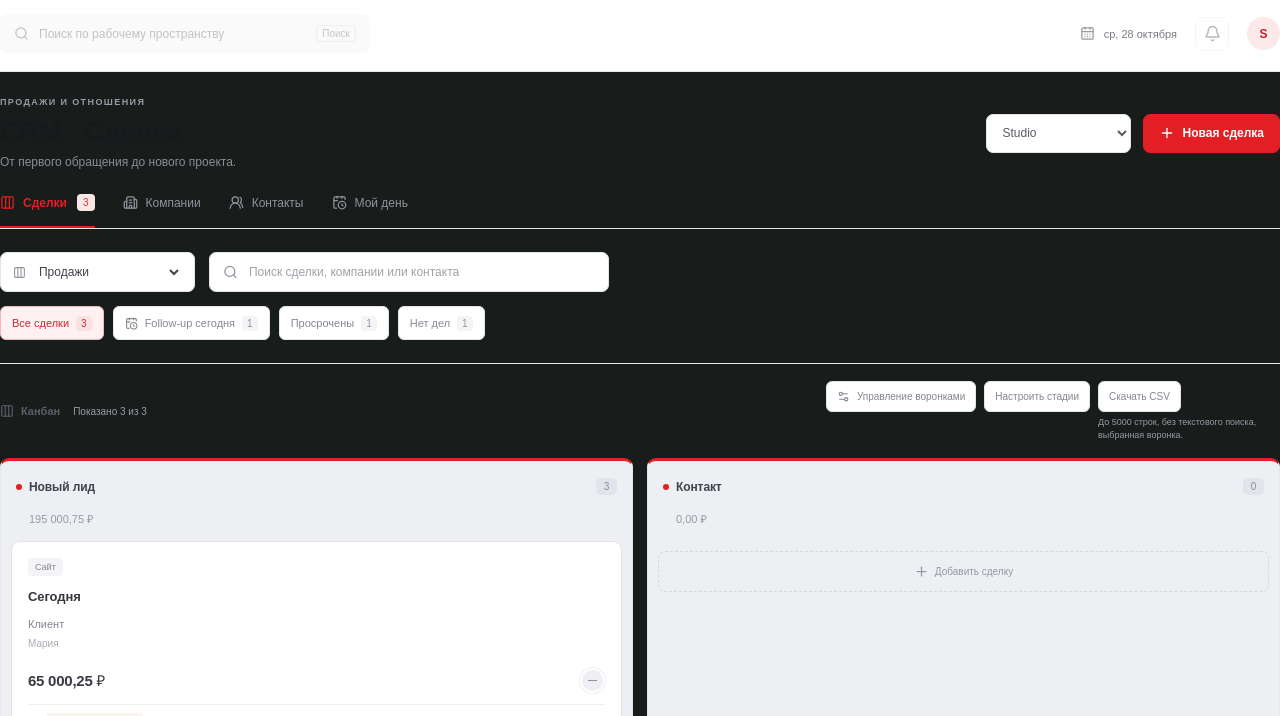
Test case: CRM persistence › filters deals with today, overdue and missing follow-ups
Click the button "Follow-up сегодня 1": (191, 323) [113,306,270,340]
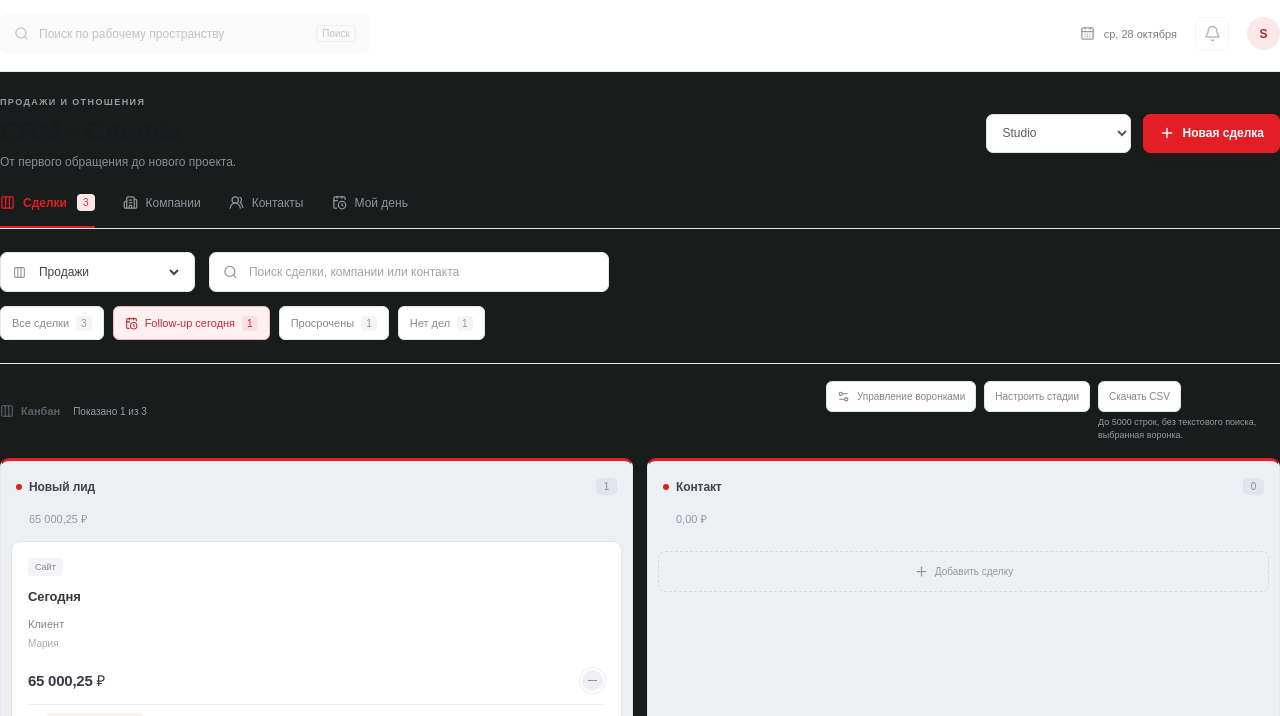
Click the button "Просрочены 1": (334, 323) [279,306,389,340]
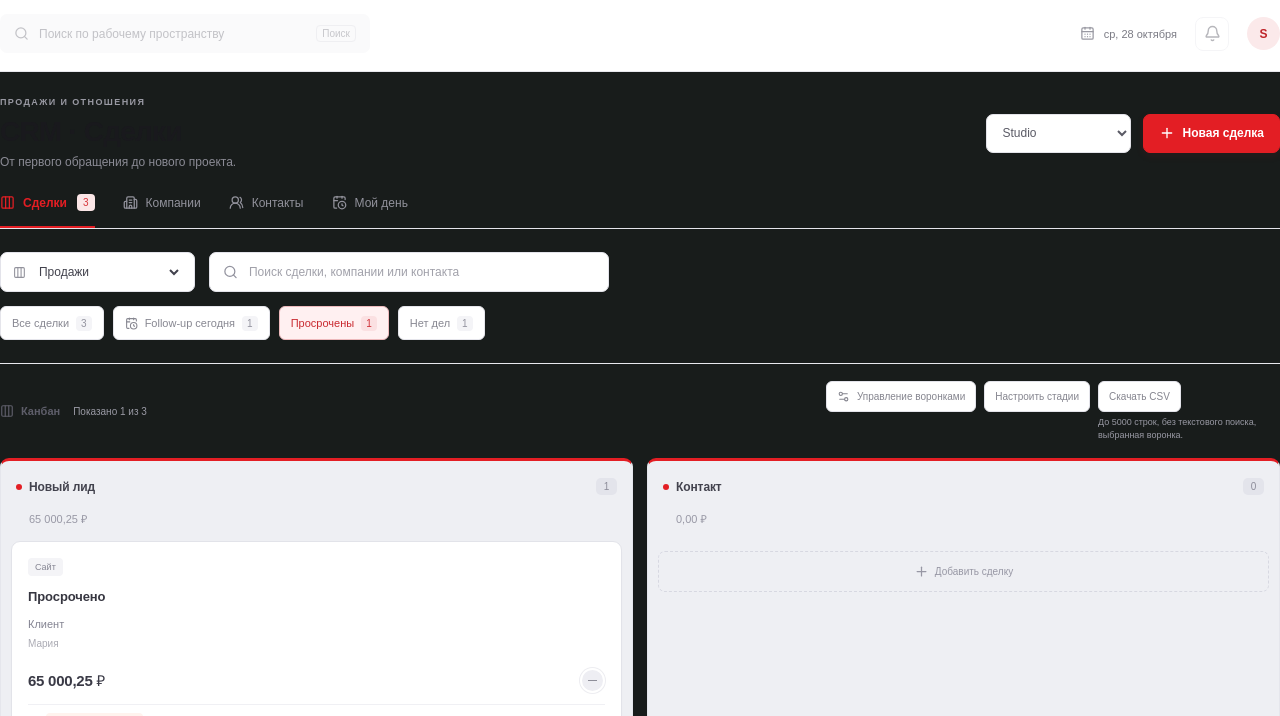
Click the button "Нет дел 1": (441, 323) [398,306,485,340]
(page scrolled)
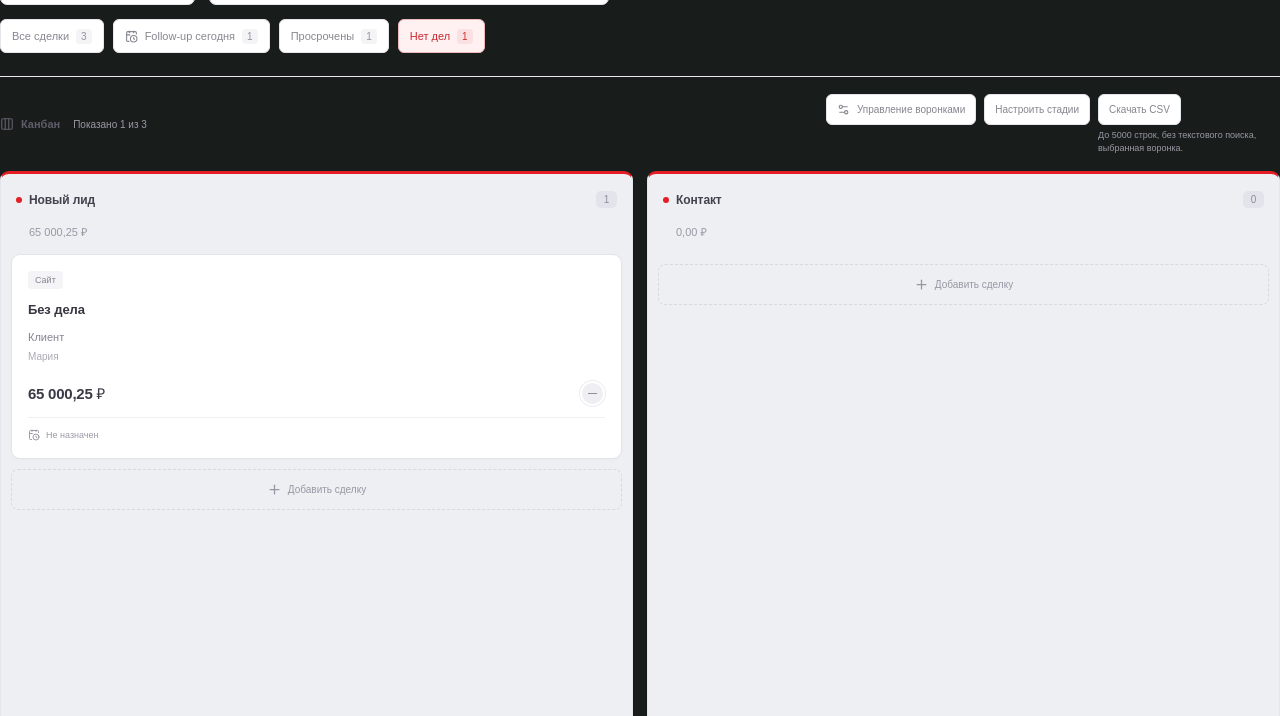
Check: the element named "Открыть Без дела" is shown, box [11,254,622,459]
